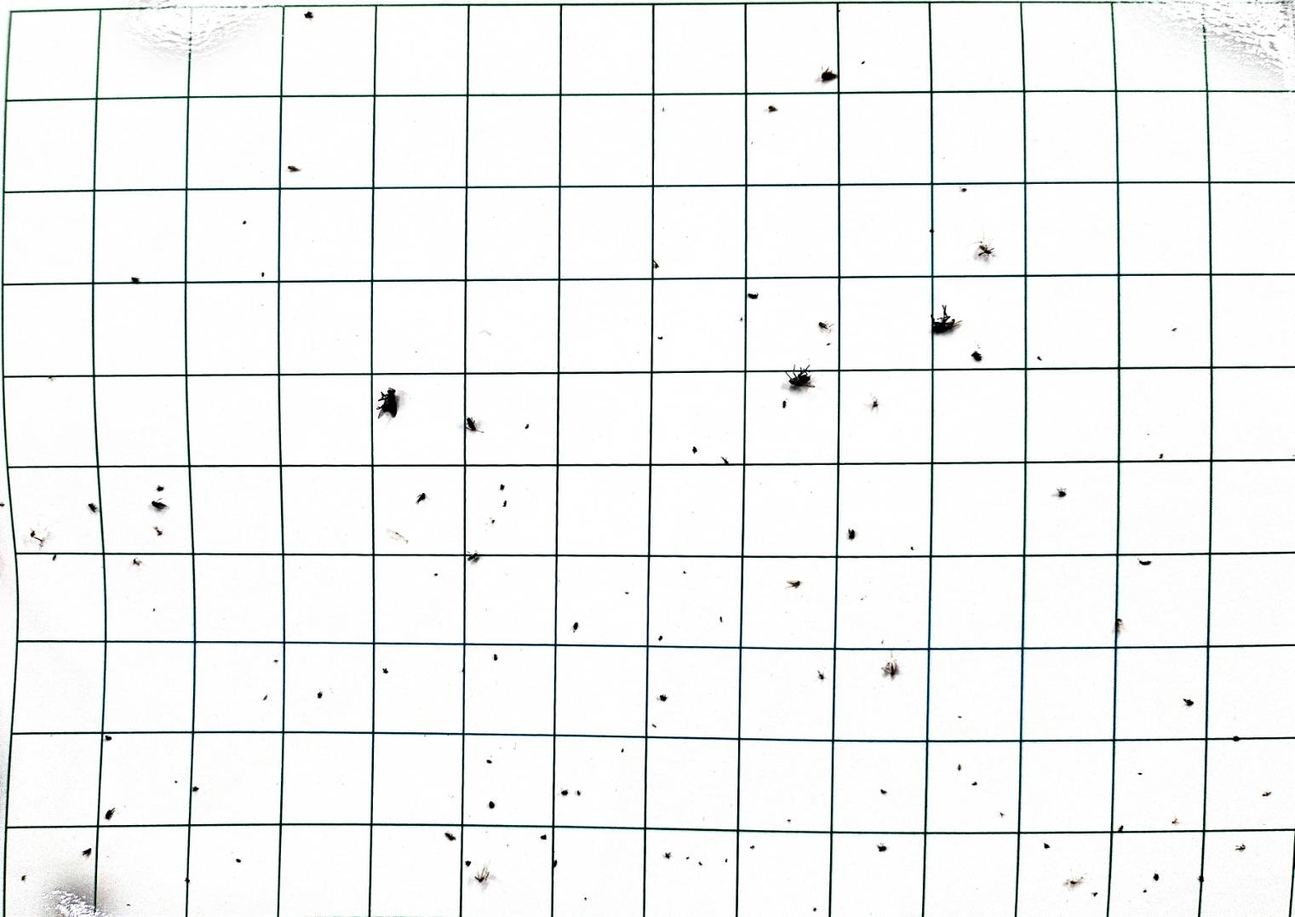fly: (931, 309, 961, 334), (376, 387, 399, 417), (786, 367, 815, 389)
test: (931, 309, 961, 334), (376, 387, 399, 417), (470, 859, 495, 885), (783, 370, 811, 390), (881, 651, 902, 677), (975, 241, 996, 261), (387, 528, 408, 544), (818, 66, 838, 82), (1064, 874, 1086, 888), (464, 416, 480, 432), (150, 498, 169, 511), (817, 319, 834, 332), (970, 347, 983, 362), (467, 550, 479, 563), (34, 536, 46, 549), (785, 579, 801, 588), (104, 807, 115, 820), (1115, 617, 1124, 632), (1056, 486, 1068, 497), (416, 492, 427, 504), (153, 525, 164, 536), (876, 841, 888, 851), (846, 528, 856, 540), (1182, 697, 1194, 707), (81, 847, 92, 857), (88, 502, 98, 513), (445, 830, 456, 840), (784, 814, 795, 824), (716, 614, 727, 624), (870, 397, 879, 409), (657, 106, 669, 115), (1137, 558, 1152, 565), (623, 587, 633, 597), (816, 669, 825, 680), (132, 557, 143, 566), (303, 11, 314, 20), (941, 304, 948, 318), (287, 165, 300, 172), (658, 693, 668, 702), (30, 528, 38, 539), (1235, 843, 1246, 851), (767, 105, 778, 113), (747, 292, 759, 299), (858, 57, 864, 71), (663, 850, 672, 859), (720, 455, 729, 464), (181, 875, 191, 883), (723, 855, 731, 865), (955, 713, 965, 721), (488, 519, 499, 526), (1140, 885, 1147, 896), (1152, 871, 1160, 880), (1171, 816, 1180, 824), (581, 894, 590, 902), (825, 339, 834, 347), (572, 621, 579, 631), (130, 276, 140, 283), (257, 270, 267, 277), (1262, 790, 1273, 796), (618, 745, 626, 753), (907, 545, 915, 553), (156, 484, 165, 491), (1137, 768, 1144, 777), (736, 315, 745, 322), (926, 228, 935, 235), (552, 856, 558, 866), (835, 5, 841, 15), (560, 788, 568, 795), (1043, 841, 1051, 848), (1197, 873, 1204, 881), (499, 483, 506, 491), (488, 800, 495, 808), (192, 784, 199, 792), (21, 873, 28, 881), (540, 832, 547, 840), (653, 260, 660, 268), (150, 606, 158, 613), (749, 842, 757, 849), (648, 720, 656, 727), (782, 399, 788, 408), (1117, 824, 1124, 831), (171, 778, 178, 785), (956, 763, 962, 771), (1232, 735, 1240, 741), (104, 734, 112, 740), (692, 446, 698, 454), (501, 500, 507, 508), (317, 690, 323, 698), (492, 652, 498, 660), (47, 375, 55, 381), (880, 788, 887, 794), (465, 859, 471, 866), (575, 789, 581, 796), (382, 667, 388, 674), (658, 634, 664, 641), (123, 901, 130, 907), (263, 693, 268, 701), (486, 758, 492, 764), (999, 811, 1005, 817), (235, 857, 241, 863), (812, 905, 818, 911), (53, 554, 59, 560), (971, 780, 978, 785), (960, 187, 967, 192), (1091, 891, 1098, 896), (1159, 452, 1164, 459), (686, 854, 691, 861), (681, 570, 688, 575), (431, 571, 439, 575), (1037, 355, 1042, 361), (525, 423, 530, 429), (242, 219, 247, 225), (657, 335, 663, 340), (0, 501, 5, 507), (1172, 327, 1178, 331), (274, 658, 280, 662), (698, 860, 701, 865)
